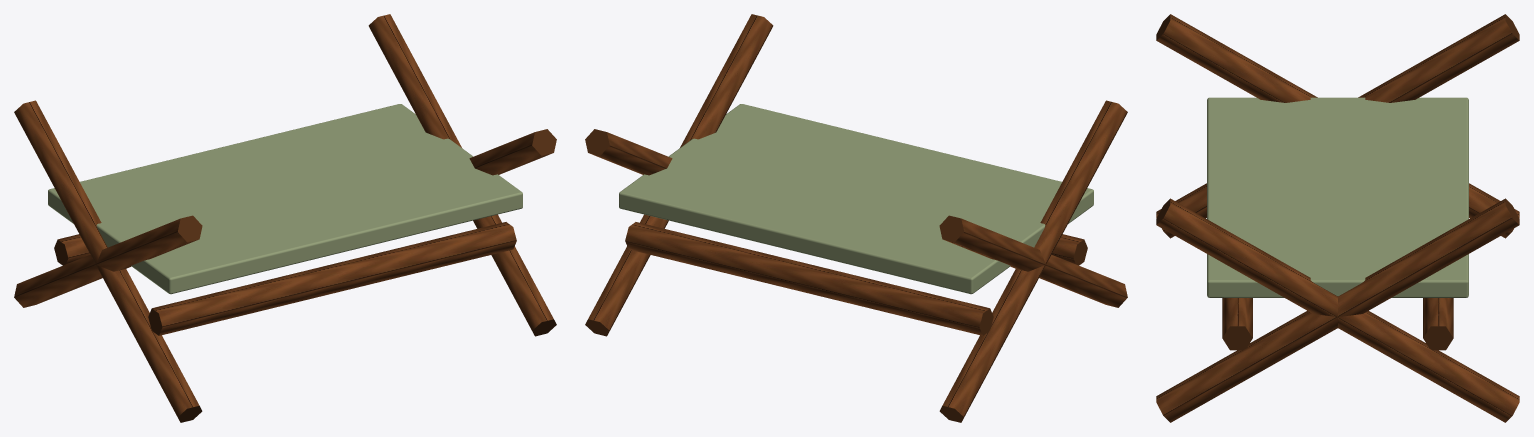
File: prehistoric-expedition-sites-field-jacketing-cradle-c4d56006__26102.glb
3 renders of one model, left to right at view 1: azimuth 30°, elevation 25°; view 2: azimuth 150°, elevation 25°; view 3: azimuth 270°, elevation 25°, orthographic. The views are drawn at different scales.
Visible parts, largest first — view 1: field-jacketing-cradle; view 2: field-jacketing-cradle; view 3: field-jacketing-cradle.
Part boxes in pixels (x1,y1,x2,y2): field-jacketing-cradle: (14, 14, 556, 422); field-jacketing-cradle: (585, 14, 1127, 422); field-jacketing-cradle: (1156, 14, 1519, 422).
Bounding box in the file's own units: 1.07 × 0.5514 × 0.8321.
Materials: 2 (1 with a texture image).
